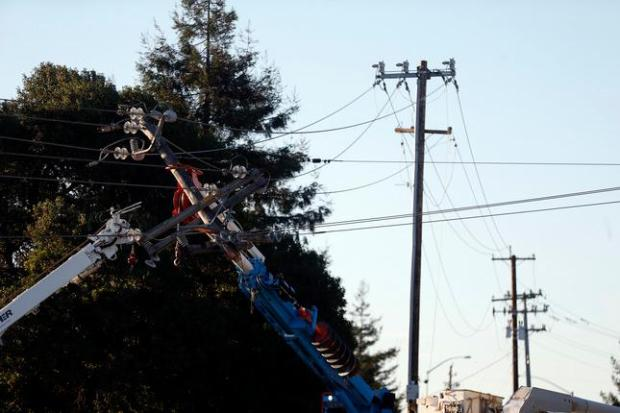utility_pole: (366, 51, 467, 162)
